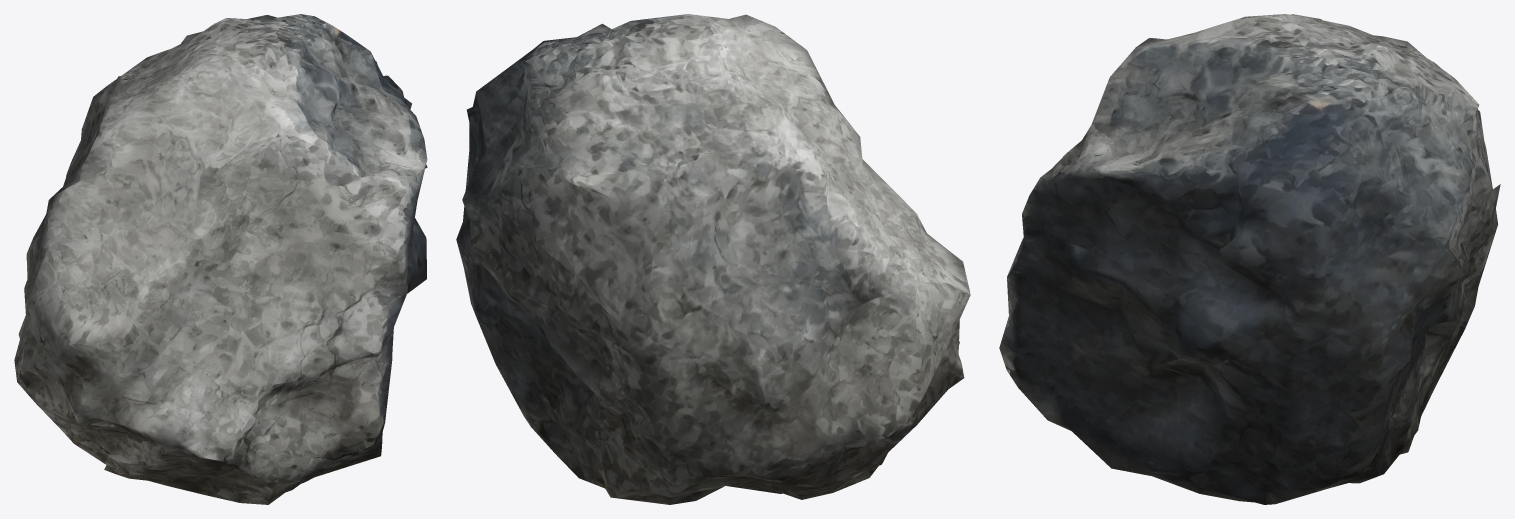
Rendered from roccia3.glb.
The picture shows the model from 3 angles, left to right: view 1: azimuth 30°, elevation 25°; view 2: azimuth 150°, elevation 25°; view 3: azimuth 270°, elevation 25°; orthographic projection. The views are drawn at different scales.
Visible parts, largest first — view 1: tripo_node_4a21e58d-7310-416a-a76d-0ecddb8f97e3; view 2: tripo_node_4a21e58d-7310-416a-a76d-0ecddb8f97e3; view 3: tripo_node_4a21e58d-7310-416a-a76d-0ecddb8f97e3.
Boxes of the visible parts, left/top/right/bottom form: tripo_node_4a21e58d-7310-416a-a76d-0ecddb8f97e3: left=14, top=14, right=427, bottom=504; tripo_node_4a21e58d-7310-416a-a76d-0ecddb8f97e3: left=456, top=14, right=970, bottom=504; tripo_node_4a21e58d-7310-416a-a76d-0ecddb8f97e3: left=999, top=14, right=1500, bottom=504.
Size of the model in its own units: 1 by 0.9857 by 0.9668.
Materials: 1 (1 with a texture image).
